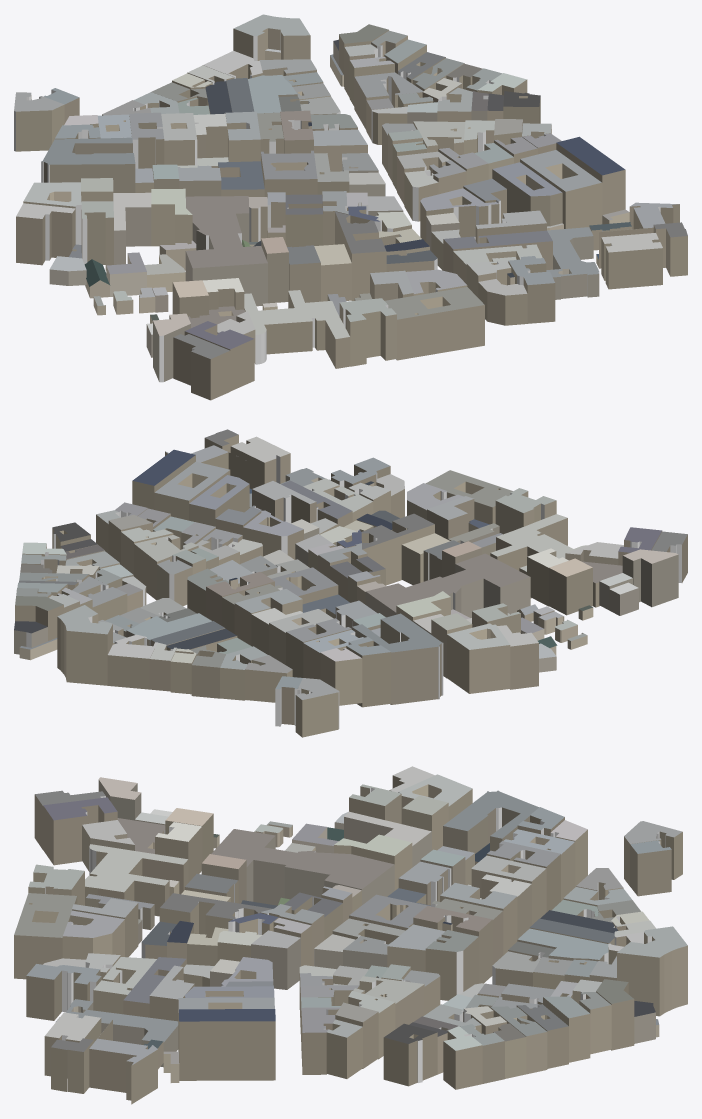
The picture shows the model from 3 angles, top to bottom: view 1: azimuth 30°, elevation 25°; view 2: azimuth 150°, elevation 25°; view 3: azimuth 270°, elevation 25°; orthographic projection. The views are drawn at different scales.
Parts seen in each view (by area): view 1: tuile; view 2: tuile; view 3: tuile.
Boxes of the visible parts, x1,y1,x2,y2 form: tuile: (14,14,687,400); tuile: (14,429,687,737); tuile: (14,766,687,1104).
Bounding box in the file's own units: 269 × 36.99 × 275.
